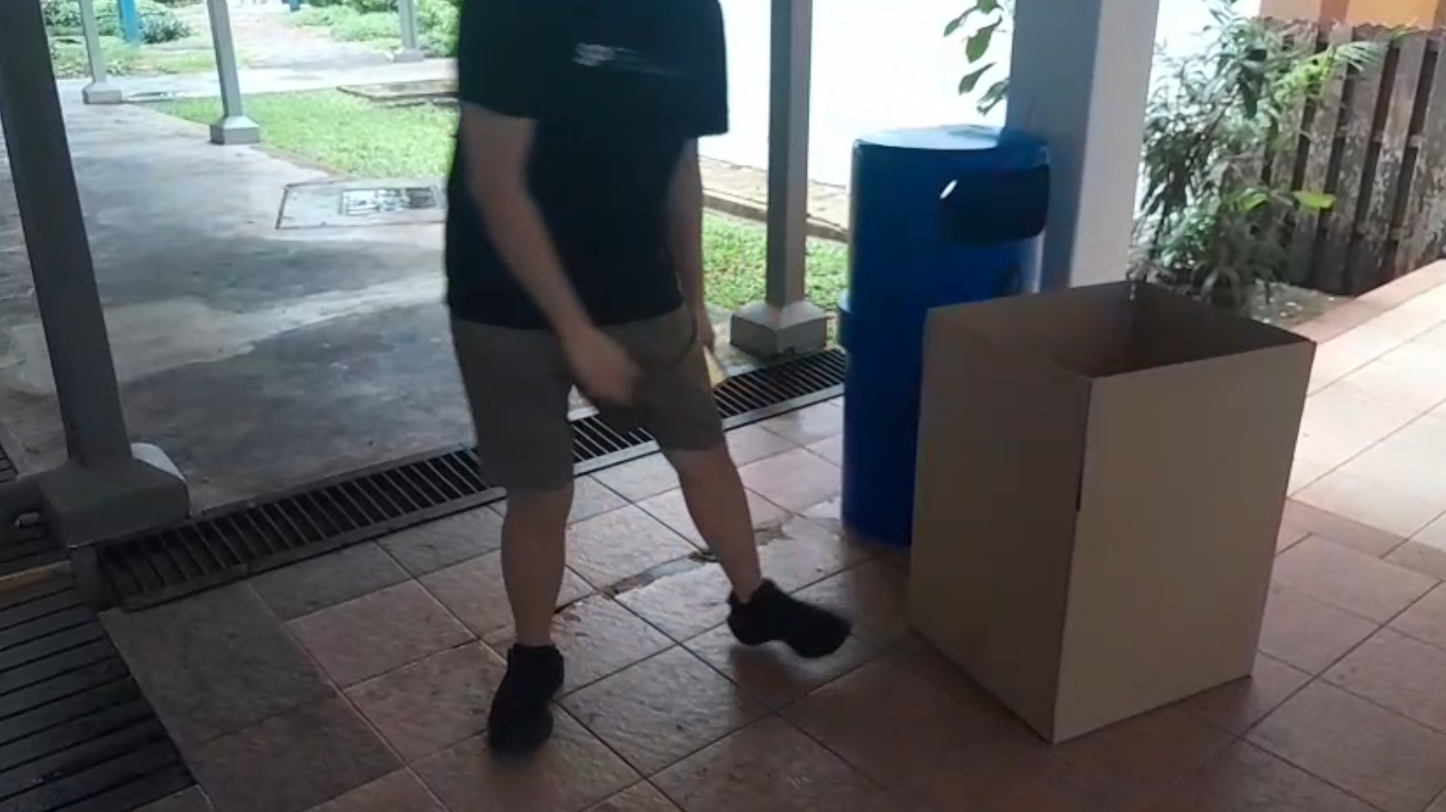bin_empty: (838, 126, 1051, 545)
bulk_waste: (909, 281, 1314, 741)
